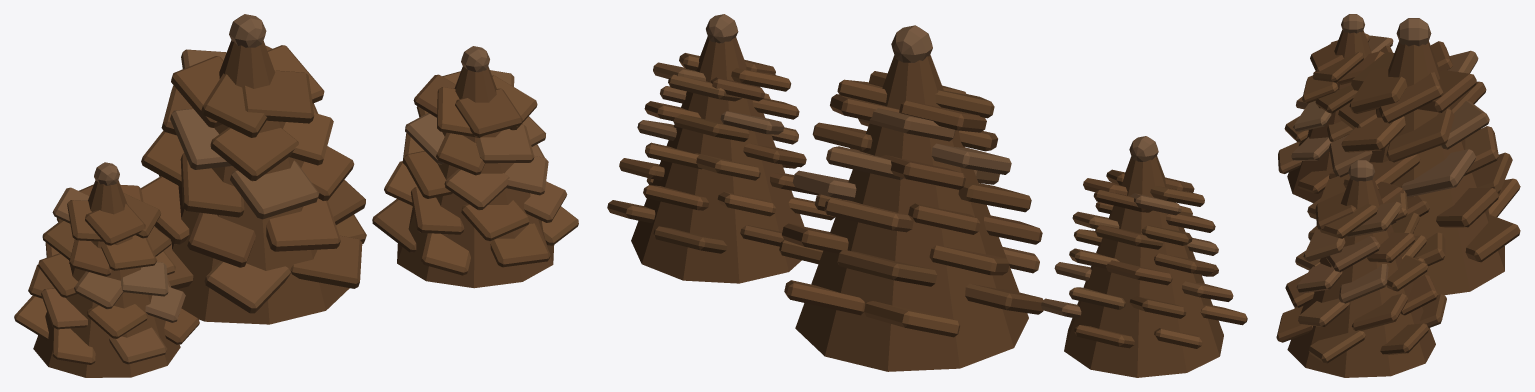
File: Pinecones.glb
3 renders of one model, left to right at view 1: azimuth 30°, elevation 25°; view 2: azimuth 150°, elevation 25°; view 3: azimuth 270°, elevation 25°, orthographic. The views are drawn at different scales.
Parts seen in each view (by area): view 1: Body; view 2: Body; view 3: Body.
Part boxes in pixels (x1,y1,x2,y2): Body: (14,14,578,377); Body: (607,14,1247,377); Body: (1276,14,1520,377).
Bounding box in the file's own units: 3.19 × 1.53 × 1.4.
